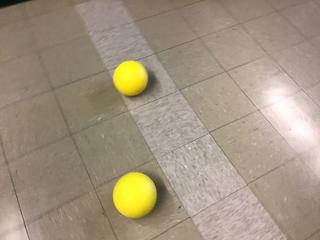power_cell: (110, 171, 159, 219), (111, 59, 151, 98)
